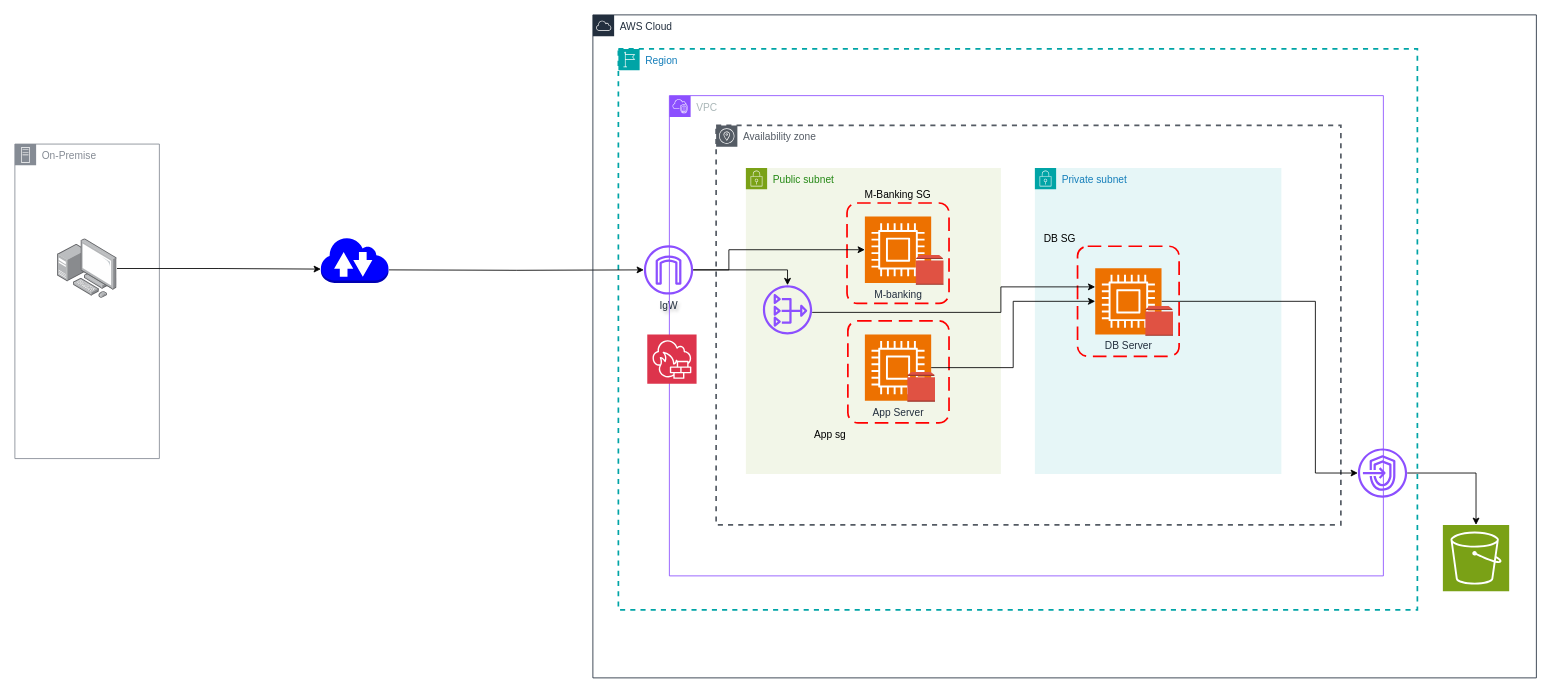
Some shapes in this 1551 by 693 pixel diagram are drawn without their labels. Each missing label, with the centre of its shape:
Firewall: the point at 671,359
Internet: the point at 354,259
S3: the point at 1475,557
VPC Endpoint: the point at 1382,472
